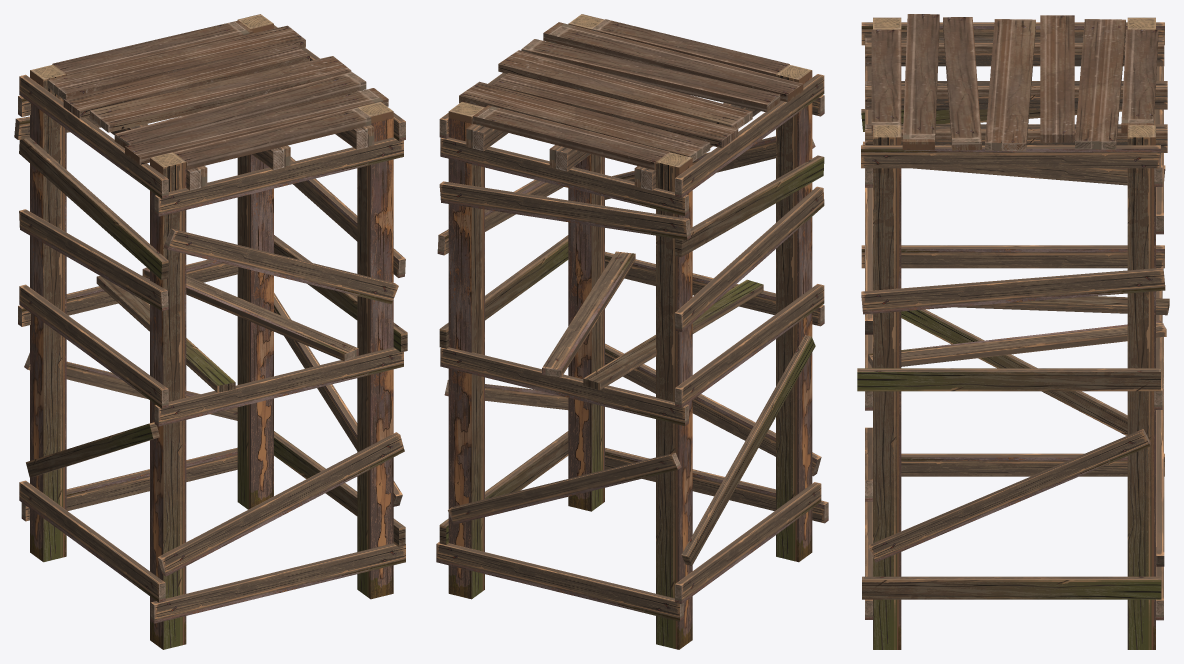
File: Tower_Bottom_6m_A Full.fbx
The picture shows the model from 3 angles, left to right: view 1: azimuth 30°, elevation 25°; view 2: azimuth 150°, elevation 25°; view 3: azimuth 270°, elevation 25°; orthographic projection. The views are drawn at different scales.
Parts seen in each view (by area): view 1: tower_bottom_6m_A; view 2: tower_bottom_6m_A; view 3: tower_bottom_6m_A.
Part boxes in pixels (box(x1,y1,x2,y2)): tower_bottom_6m_A: box(14, 14, 407, 649); tower_bottom_6m_A: box(436, 14, 828, 649); tower_bottom_6m_A: box(857, 14, 1169, 649).
Bounding box in the file's own units: 331 × 600 × 331.
1 material, 1 textured.
